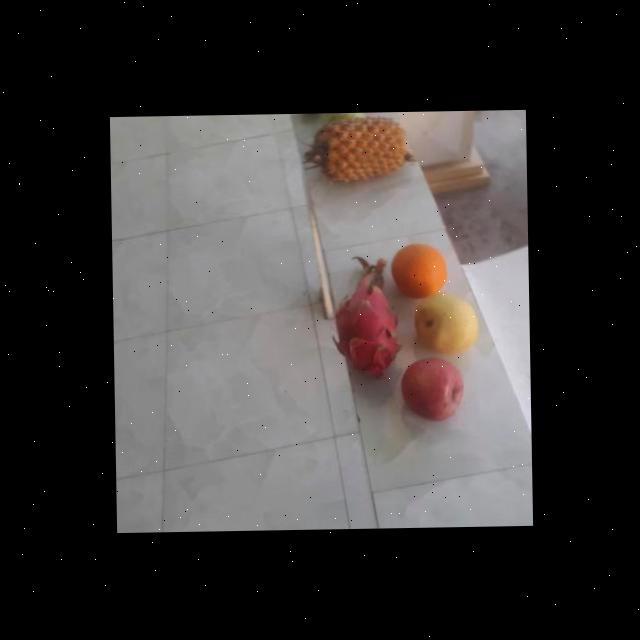apple: (399, 355, 463, 421)
orange: (391, 238, 448, 296)
pear: (410, 289, 480, 354)
pineapple: (309, 113, 412, 183)
pitaya: (334, 274, 409, 378)
